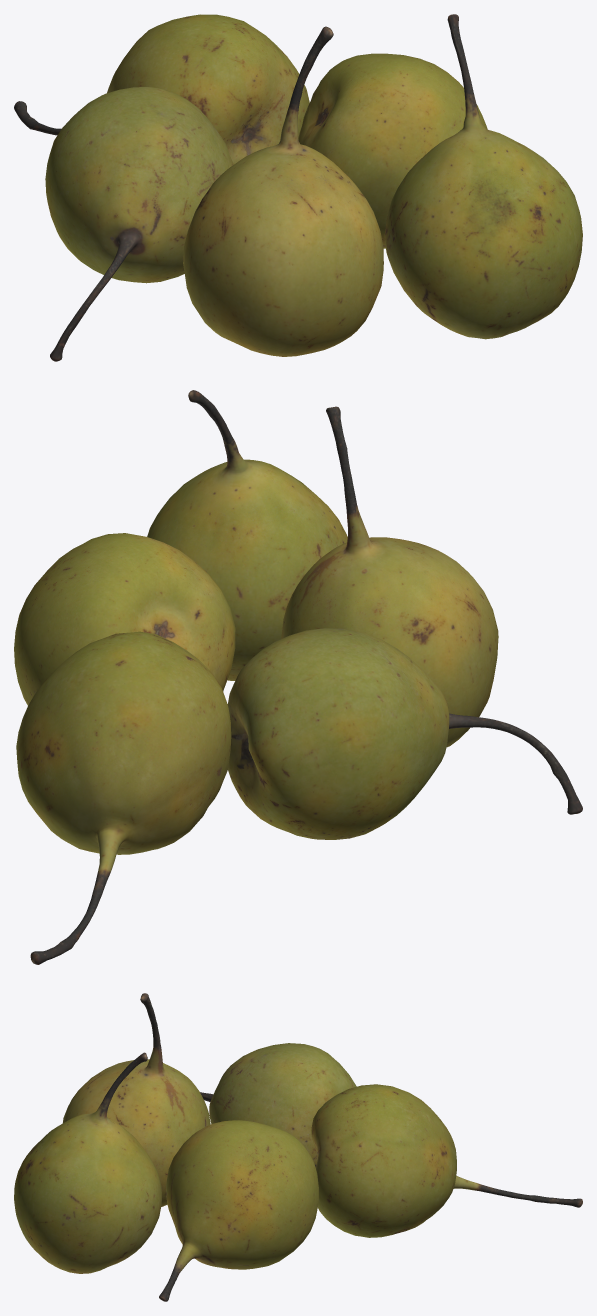
Rendered from pears.glb.
3 renders of one model, top to bottom at view 1: azimuth 30°, elevation 25°; view 2: azimuth 150°, elevation 25°; view 3: azimuth 270°, elevation 25°, orthographic. The views are drawn at different scales.
Parts seen in each view (by area): view 1: food_pears_asian_01_c, food_pears_asian_01_e, food_pears_asian_01_a, food_pears_asian_01_d, food_pears_asian_01_b; view 2: food_pears_asian_01_b, food_pears_asian_01_a, food_pears_asian_01_c, food_pears_asian_01_e, food_pears_asian_01_d; view 3: food_pears_asian_01_d, food_pears_asian_01_b, food_pears_asian_01_e, food_pears_asian_01_a, food_pears_asian_01_c.
Boxes of the visible parts, x1,y1,x2,y2 form: food_pears_asian_01_c: [183, 26, 383, 356]; food_pears_asian_01_e: [384, 14, 582, 339]; food_pears_asian_01_a: [45, 87, 233, 361]; food_pears_asian_01_d: [298, 53, 487, 248]; food_pears_asian_01_b: [14, 14, 309, 164]; food_pears_asian_01_b: [16, 631, 231, 964]; food_pears_asian_01_a: [227, 628, 582, 839]; food_pears_asian_01_c: [281, 406, 498, 747]; food_pears_asian_01_e: [147, 390, 347, 680]; food_pears_asian_01_d: [14, 533, 235, 705]; food_pears_asian_01_d: [159, 1120, 318, 1301]; food_pears_asian_01_b: [311, 1084, 582, 1237]; food_pears_asian_01_e: [14, 1052, 161, 1273]; food_pears_asian_01_a: [200, 1043, 356, 1167]; food_pears_asian_01_c: [63, 993, 210, 1206].
Bounding box in the file's own units: 0.1261 × 0.0712 × 0.1669.
1 material, 1 textured.
